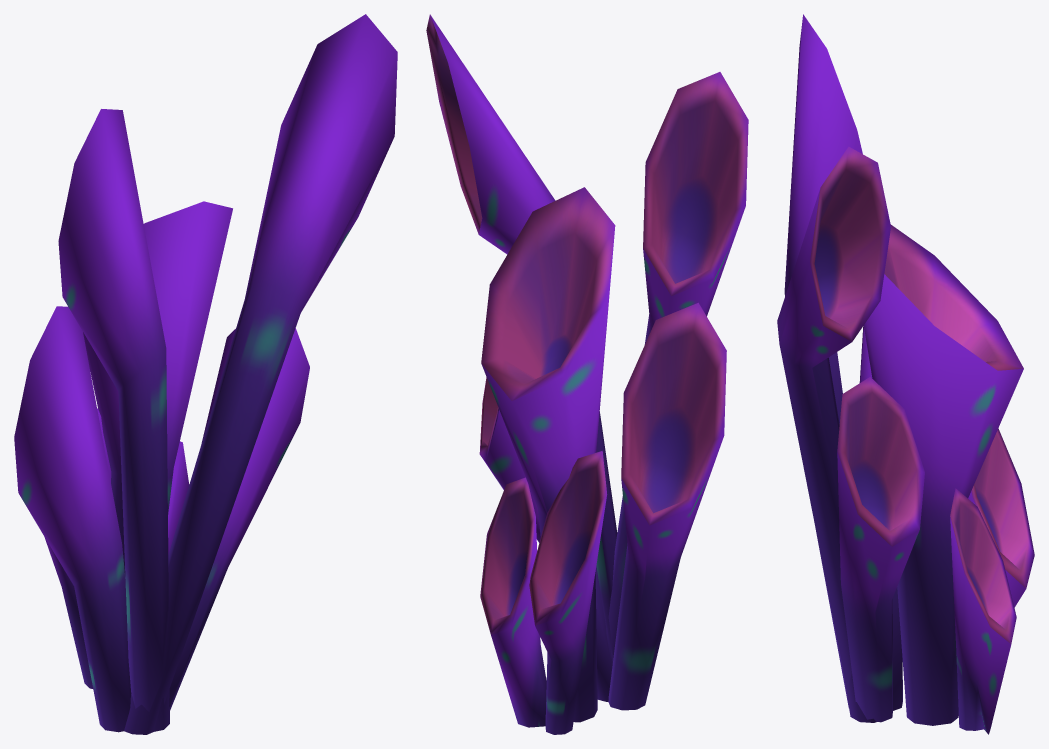
Rendered from 3d_purple_coral.glb.
3 views of the same model, side by side, from view 1: azimuth 30°, elevation 25°; view 2: azimuth 150°, elevation 25°; view 3: azimuth 270°, elevation 25° (orthographic). The views are drawn at different scales.
Parts seen in each view (by area): view 1: Cylinder.011, Cylinder.010, Cylinder.007, Cylinder.005, Cylinder.006, Cylinder.008, Cylinder.009; view 2: Cylinder.005, Cylinder.007, Cylinder.010, Cylinder.011, Cylinder.008, Cylinder.009, Cylinder.006; view 3: Cylinder.005, Cylinder.011, Cylinder.006, Cylinder.009, Cylinder.010, Cylinder.008, Cylinder.007.
Part boxes in pixels (left/top/right/bottom): Cylinder.011: left=124, top=14, right=397, bottom=734; Cylinder.010: left=58, top=109, right=169, bottom=731; Cylinder.007: left=14, top=306, right=131, bottom=732; Cylinder.005: left=83, top=201, right=232, bottom=579; Cylinder.006: left=169, top=328, right=309, bottom=710; Cylinder.008: left=44, top=408, right=111, bottom=688; Cylinder.009: left=168, top=441, right=189, bottom=554; Cylinder.005: left=481, top=187, right=615, bottom=722; Cylinder.007: left=608, top=302, right=726, bottom=710; Cylinder.010: left=606, top=72, right=748, bottom=667; Cylinder.011: left=426, top=14, right=617, bottom=663; Cylinder.008: left=529, top=451, right=607, bottom=734; Cylinder.009: left=480, top=477, right=546, bottom=727; Cylinder.006: left=479, top=377, right=612, bottom=701; Cylinder.005: left=863, top=224, right=1023, bottom=725; Cylinder.011: left=777, top=146, right=890, bottom=707; Cylinder.006: left=837, top=377, right=924, bottom=722; Cylinder.009: left=950, top=488, right=1016, bottom=734; Cylinder.010: left=784, top=14, right=876, bottom=722; Cylinder.008: left=968, top=428, right=1034, bottom=607; Cylinder.007: left=859, top=326, right=902, bottom=710.
Size of the model in its own units: 0.3969 by 0.7215 by 0.2519.
1 material, 1 textured.
